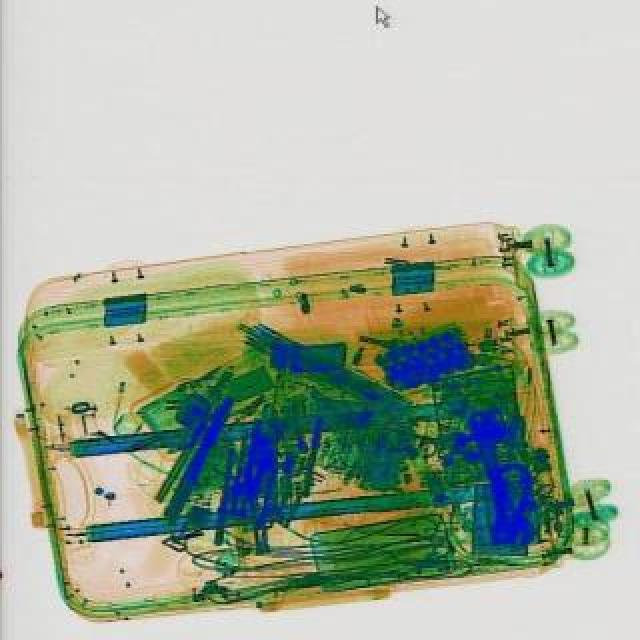scissors: (452, 406, 536, 554), (252, 428, 288, 528)
